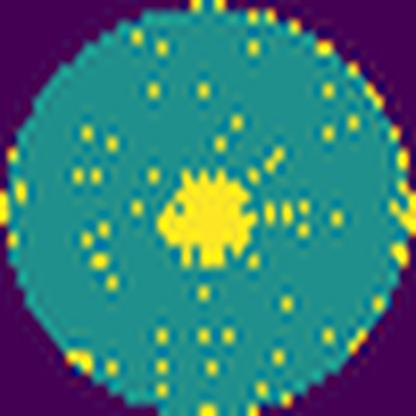Center: (153, 165, 261, 271)
